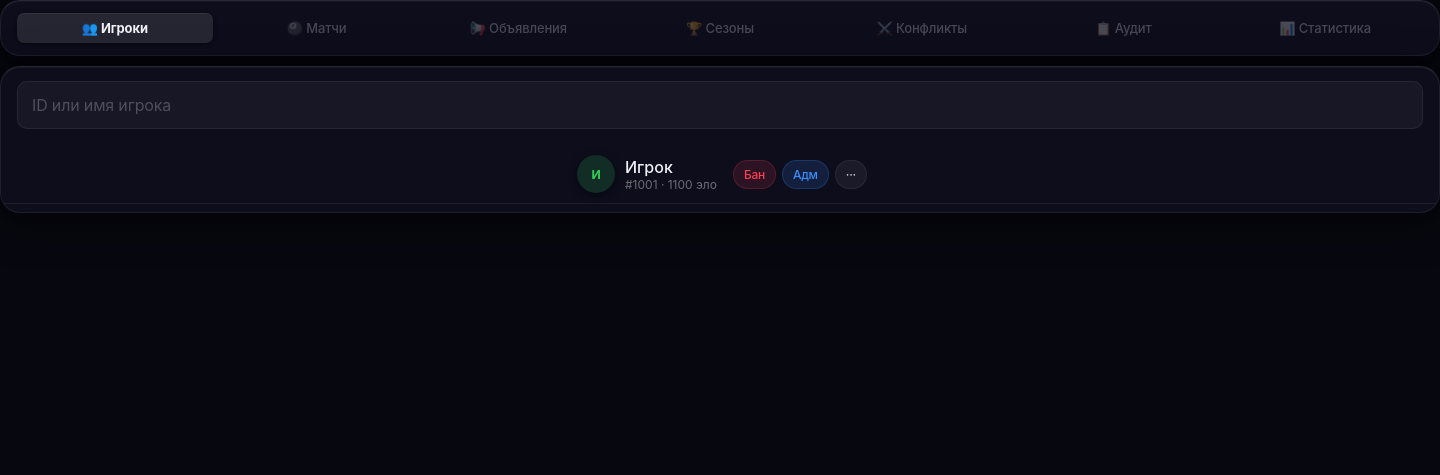
Test case: SuperAdmin › переключение на «Статистика» грузит /admin/stats и показывает числа
Expected: the text "Игрок" is shown, [625,156,673,176]
Step 1. Click the button "📊 Статистика" → point(1325, 28), box [1227,13,1423,43]
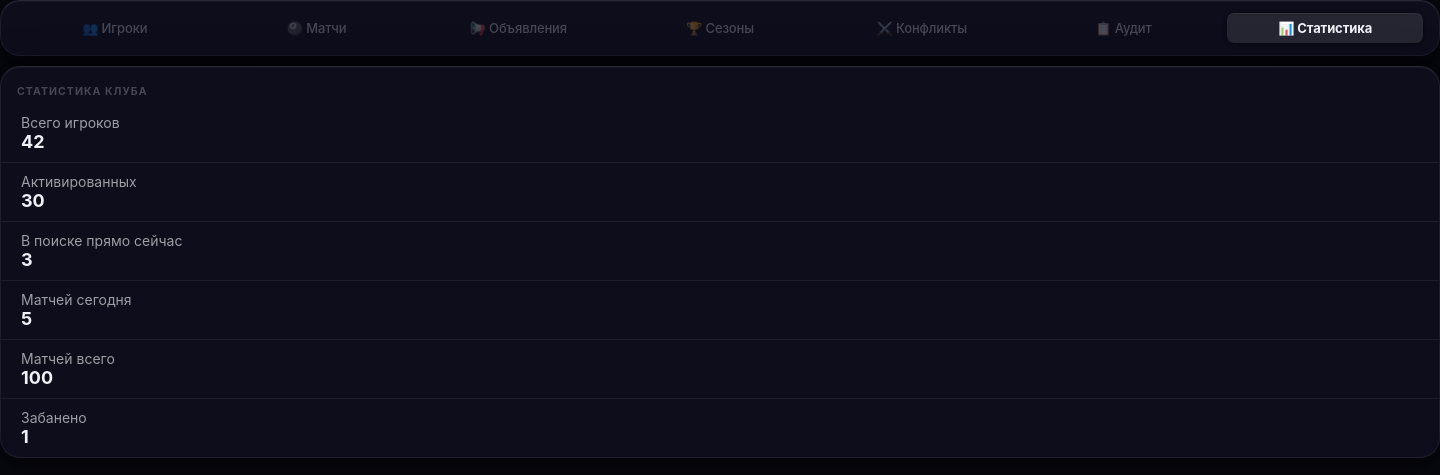
Now the text "42" is shown, box [21,131,44,152]
